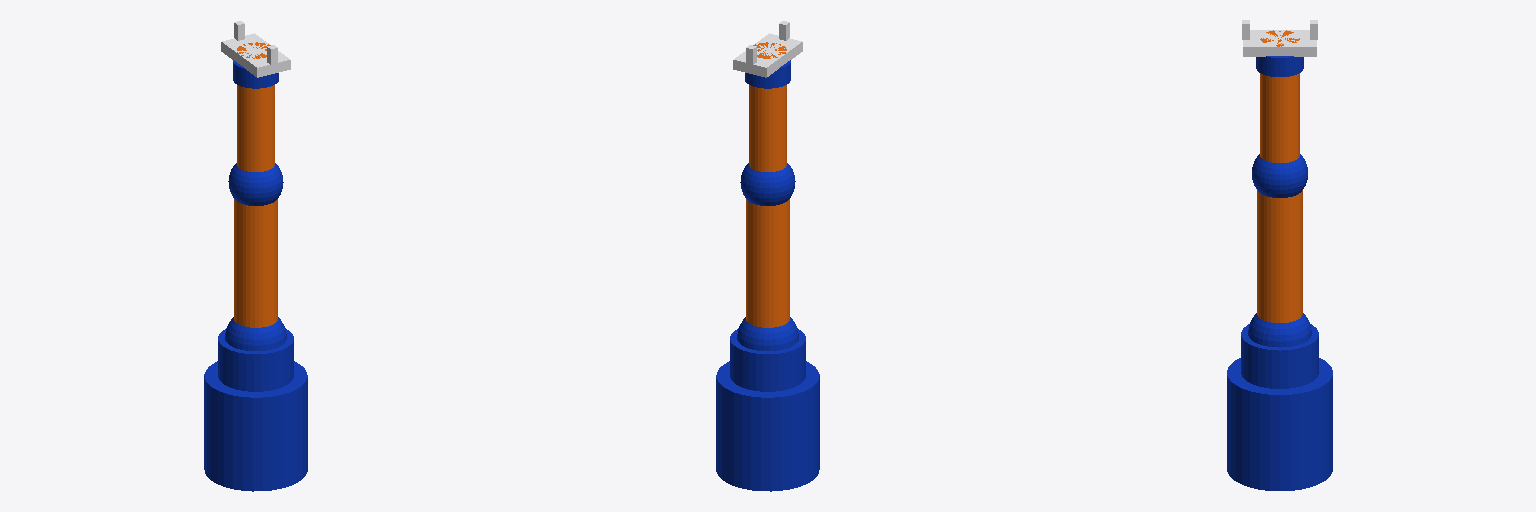
The robot description file, URDF, robot "coop_arm":
<?xml version="1.0"?>
<robot name="coop_arm">
  <material name="orange"><color rgba="0.96 0.47 0.10 1.0"/></material>
  <material name="blue"><color rgba="0.10 0.28 0.78 1.0"/></material>
  <material name="white"><color rgba="0.94 0.94 0.95 1.0"/></material>

  <!-- 基座立柱 -->
  <link name="base_link">
    <inertial>
      <origin xyz="0 0 0.075"/><mass value="6.0"/>
      <inertia ixx="0.0197" ixy="0" ixz="0" iyy="0.0197" iyz="0" izz="0.0169"/>
    </inertial>
    <visual>
      <origin xyz="0 0 0.075"/>
      <geometry><cylinder radius="0.075" length="0.15"/></geometry>
      <material name="blue"/>
    </visual>
    <collision>
      <origin xyz="0 0 0.075"/>
      <geometry><cylinder radius="0.075" length="0.15"/></geometry>
    </collision>
  </link>

  <!-- 偏航关节 -->
  <joint name="j1" type="revolute">
    <parent link="base_link"/><child link="link1"/>
    <origin xyz="0 0 0.15" rpy="0 0 0"/>
    <axis xyz="0 0 1"/>
    <limit lower="-3.50" upper="3.50" effort="150" velocity="2.5"/>
  </joint>

  <!-- 肩部鼓形 -->
  <link name="link1">
    <inertial>
      <origin xyz="0 0 0.03"/><mass value="2.0"/>
      <inertia ixx="0.0021" ixy="0" ixz="0" iyy="0.0021" iyz="0" izz="0.0030"/>
    </inertial>
    <visual>
      <origin xyz="0 0 0.03"/>
      <geometry><cylinder radius="0.055" length="0.06"/></geometry>
      <material name="blue"/>
    </visual>
    <collision>
      <origin xyz="0 0 0.03"/>
      <geometry><cylinder radius="0.055" length="0.06"/></geometry>
    </collision>
  </link>

  <!-- 肩关节（俯仰） -->
  <joint name="j2" type="revolute">
    <parent link="link1"/><child link="link2"/>
    <origin xyz="0 0 0.06" rpy="0 0 0"/>
    <axis xyz="0 1 0"/>
    <limit lower="-2.9" upper="2.9" effort="150" velocity="2.5"/>
  </joint>

  <!-- 大臂 -->
  <link name="link2">
    <inertial>
      <origin xyz="0 0 0.125"/><mass value="1.6"/>
      <inertia ixx="0.0124" ixy="0" ixz="0" iyy="0.0124" iyz="0" izz="0.0008"/>
    </inertial>
    <visual>
      <origin xyz="0 0 0"/>
      <geometry><sphere radius="0.045"/></geometry>
      <material name="blue"/>
    </visual>
    <visual>
      <origin xyz="0 0 0.125"/>
      <geometry><cylinder radius="0.032" length="0.25"/></geometry>
      <material name="orange"/>
    </visual>
    <collision>
      <origin xyz="0 0 0.125"/>
      <geometry><cylinder radius="0.032" length="0.25"/></geometry>
    </collision>
  </link>

  <!-- 肘关节（俯仰） -->
  <joint name="j3" type="revolute">
    <parent link="link2"/><child link="link3"/>
    <origin xyz="0 0 0.25" rpy="0 0 0"/>
    <axis xyz="0 1 0"/>
    <limit lower="-2.9" upper="2.9" effort="120" velocity="2.5"/>
  </joint>

  <!-- 小臂 -->
  <link name="link3">
    <inertial>
      <origin xyz="0 0 0.105"/><mass value="1.2"/>
      <inertia ixx="0.0070" ixy="0" ixz="0" iyy="0.0070" iyz="0" izz="0.0005"/>
    </inertial>
    <visual>
      <origin xyz="0 0 0"/>
      <geometry><sphere radius="0.040"/></geometry>
      <material name="blue"/>
    </visual>
    <visual>
      <origin xyz="0 0 0.105"/>
      <geometry><cylinder radius="0.028" length="0.21"/></geometry>
      <material name="orange"/>
    </visual>
    <collision>
      <origin xyz="0 0 0.105"/>
      <geometry><cylinder radius="0.028" length="0.21"/></geometry>
    </collision>
  </link>

  <!-- 腕关节（俯仰）：手掌原点 = 掌心贴合面 -->
  <joint name="j4" type="revolute">
    <parent link="link3"/><child link="hand"/>
    <origin xyz="0 0 0.21" rpy="0 0 0"/>
    <axis xyz="0 1 0"/>
    <limit lower="-2.4" upper="2.4" effort="80" velocity="3.0"/>
  </joint>

  <!-- 手掌 + 两根手指 -->
  <link name="hand">
    <inertial>
      <origin xyz="0 0 -0.015"/><mass value="0.6"/>
      <inertia ixx="0.0007" ixy="0" ixz="0" iyy="0.0012" iyz="0" izz="0.0012"/>
    </inertial>
    <visual>
      <origin xyz="0 0 -0.030"/>
      <geometry><cylinder radius="0.034" length="0.030"/></geometry>
      <material name="blue"/>
    </visual>
    <visual>
      <origin xyz="0 0 -0.008"/>
      <geometry><box size="0.056 0.104 0.016"/></geometry>
      <material name="white"/>
    </visual>
    <collision>
      <origin xyz="0 0 -0.008"/>
      <geometry><box size="0.056 0.104 0.016"/></geometry>
    </collision>
  </link>

  <joint name="jf1" type="prismatic">
    <parent link="hand"/><child link="finger1"/>
    <origin xyz="0 0.042 0" rpy="0 0 0"/>
    <axis xyz="0 -1 0"/>
    <limit lower="0" upper="0.012" effort="40" velocity="0.25"/>
  </joint>
  <link name="finger1">
    <inertial>
      <origin xyz="0 0.006 0.0125"/><mass value="0.15"/>
      <inertia ixx="0.0001" ixy="0" ixz="0" iyy="0.0001" iyz="0" izz="0.0001"/>
    </inertial>
    <visual>
      <origin xyz="0 0.006 0.0125"/>
      <geometry><box size="0.012 0.012 0.025"/></geometry>
      <material name="white"/>
    </visual>
    <collision>
      <origin xyz="0 0.006 0.0125"/>
      <geometry><box size="0.012 0.012 0.025"/></geometry>
    </collision>
  </link>

  <joint name="jf2" type="prismatic">
    <parent link="hand"/><child link="finger2"/>
    <origin xyz="0 -0.042 0" rpy="0 0 0"/>
    <axis xyz="0 1 0"/>
    <limit lower="0" upper="0.012" effort="40" velocity="0.25"/>
  </joint>
  <link name="finger2">
    <inertial>
      <origin xyz="0 -0.006 0.0125"/><mass value="0.15"/>
      <inertia ixx="0.0001" ixy="0" ixz="0" iyy="0.0001" iyz="0" izz="0.0001"/>
    </inertial>
    <visual>
      <origin xyz="0 -0.006 0.0125"/>
      <geometry><box size="0.012 0.012 0.025"/></geometry>
      <material name="white"/>
    </visual>
    <collision>
      <origin xyz="0 -0.006 0.0125"/>
      <geometry><box size="0.012 0.012 0.025"/></geometry>
    </collision>
  </link>
</robot>

--- What the picture shows (computed from the rendered views, not written in the file) ---
Views: 3 orthographic renders of the robot side by side, from view 1: azimuth 30°, elevation 25°; view 2: azimuth 150°, elevation 25°; view 3: azimuth 270°, elevation 25°.
Robot: coop_arm — 7 links, 6 joints (4 revolute, 2 prismatic); root link base_link; default pose: all joints at 0.
Visible links, largest first — view 1: base_link, link2, link3, link1, hand; view 2: base_link, link2, link3, link1, hand; view 3: base_link, link2, link3, link1, hand.
Boxes of the visible links, box(x1,y1,x2,y2) form: base_link: box(204, 361, 307, 491); link2: box(225, 199, 286, 350); link3: box(228, 42, 283, 205); link1: box(218, 328, 293, 391); hand: box(221, 33, 290, 88); base_link: box(716, 361, 819, 491); link2: box(737, 199, 798, 350); link3: box(740, 42, 795, 205); link1: box(730, 328, 805, 391); hand: box(733, 33, 802, 88); base_link: box(1227, 358, 1332, 490); link2: box(1248, 190, 1311, 347); link3: box(1252, 30, 1307, 197); link1: box(1241, 324, 1318, 388); hand: box(1243, 30, 1316, 76).
Size in the robot's own frame: 0.15 by 0.15 by 0.695 metres.
Geometry: primitives only (box / cylinder / sphere), no mesh files.
